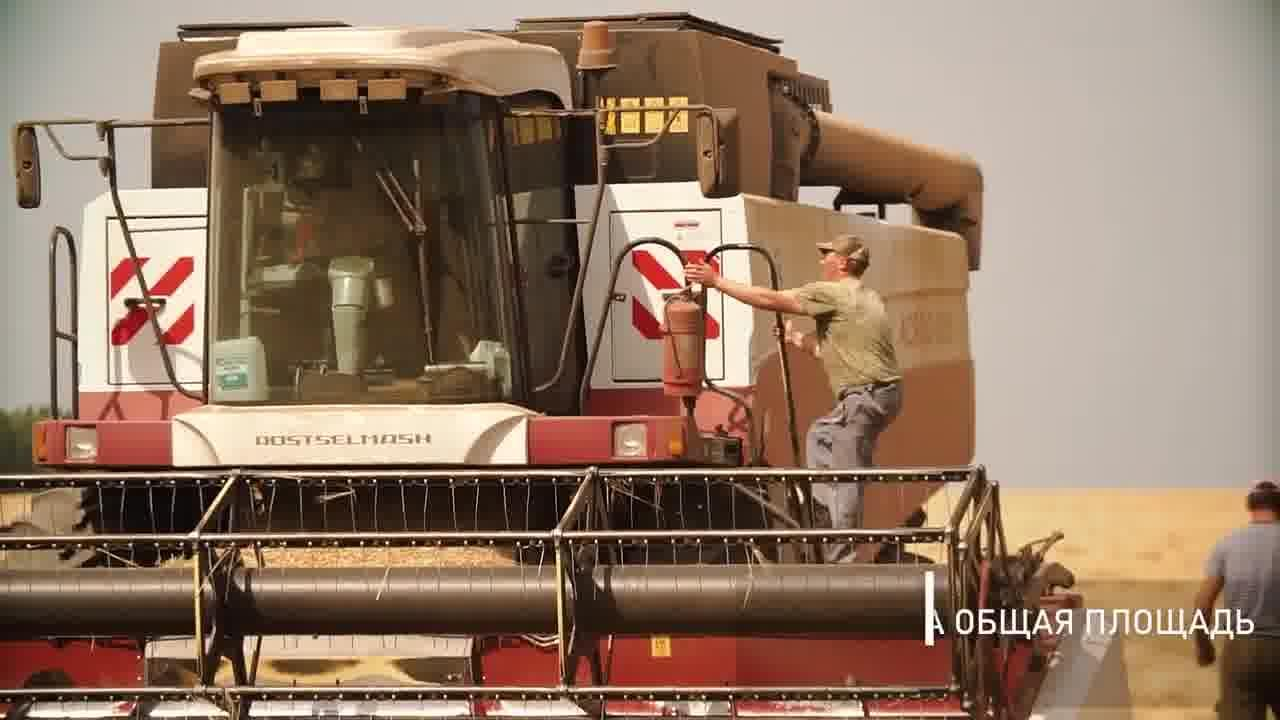combine harvester: (2, 0, 1143, 720)
